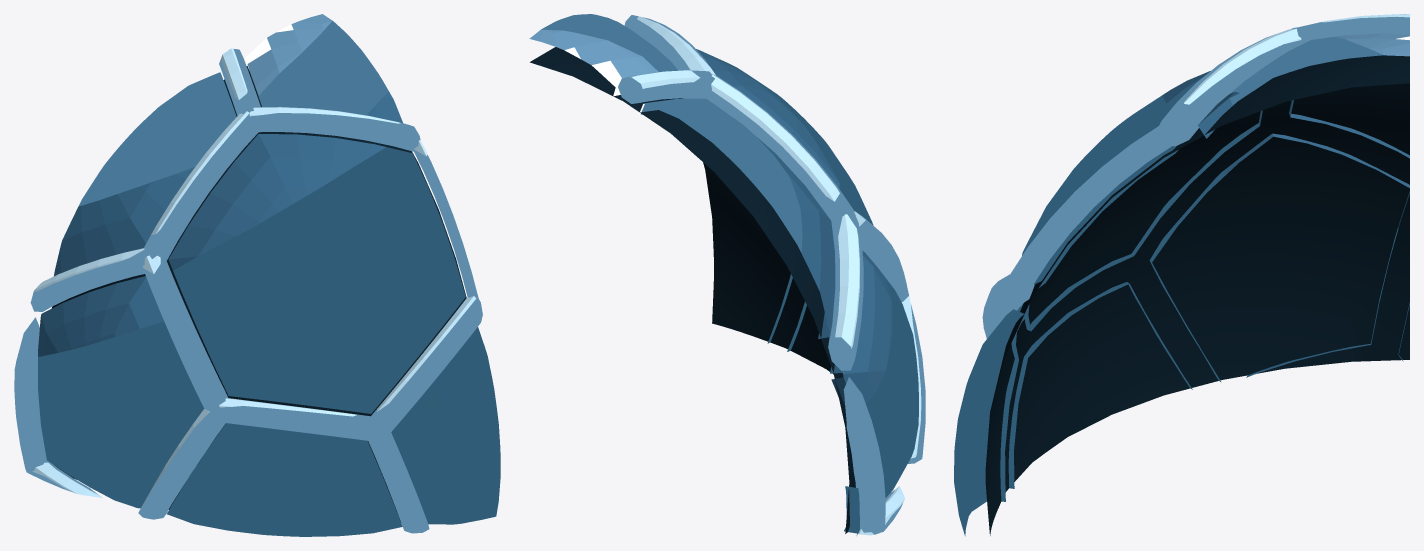
Rendered from fruit_geoball_bl.glb.
The picture shows the model from 3 angles, left to right: view 1: azimuth 30°, elevation 25°; view 2: azimuth 150°, elevation 25°; view 3: azimuth 270°, elevation 25°; orthographic projection. The views are drawn at different scales.
Parts seen in each view (by area): view 1: fruit_geoball_bl; view 2: fruit_geoball_bl; view 3: fruit_geoball_bl.
Boxes of the visible parts, left/top/right/bottom form: fruit_geoball_bl: left=14, top=14, right=500, bottom=536; fruit_geoball_bl: left=529, top=14, right=925, bottom=535; fruit_geoball_bl: left=954, top=14, right=1409, bottom=536.
Bounding box in the file's own units: 23.9 × 27.62 × 23.69.
